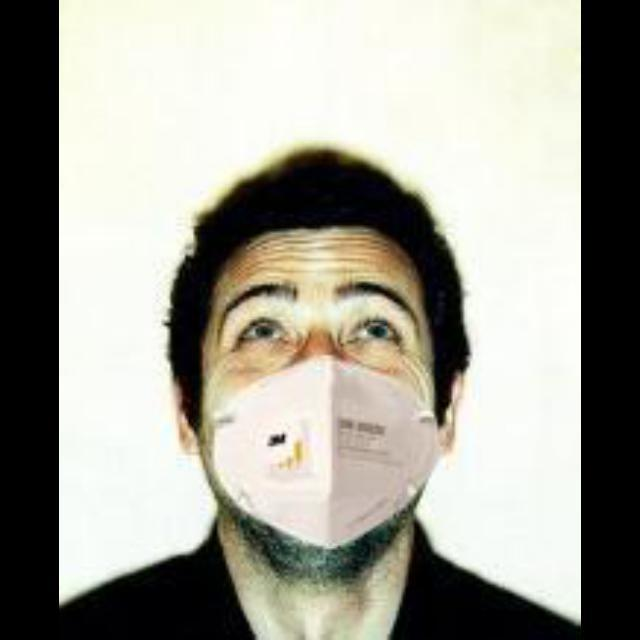suspicion: (164, 125, 498, 562)
